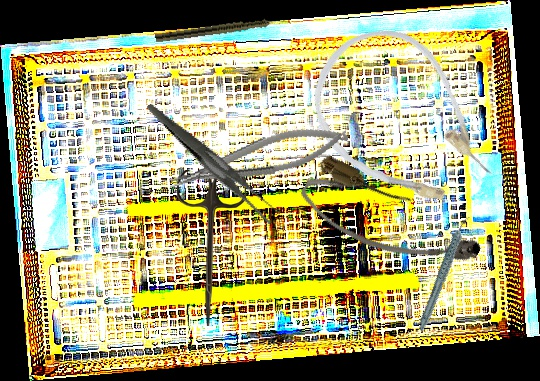Cannula: (285, 3, 519, 242), (293, 151, 488, 292)
Dressing Forceps: (146, 75, 283, 248)
Handpiece: (397, 214, 493, 333), (154, 14, 292, 45)
Iris Scissors: (177, 170, 246, 326)
Needle Holder: (163, 117, 353, 198)
